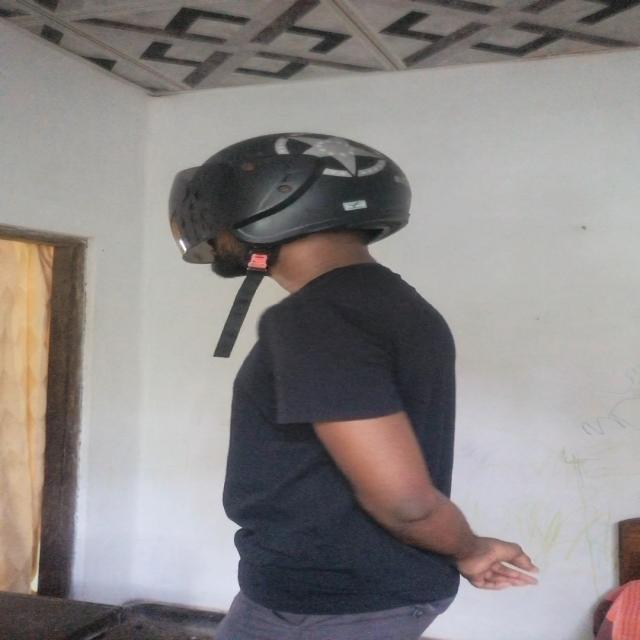Helmet_Wearer: (142, 119, 437, 310)
Person: (167, 125, 523, 640)
